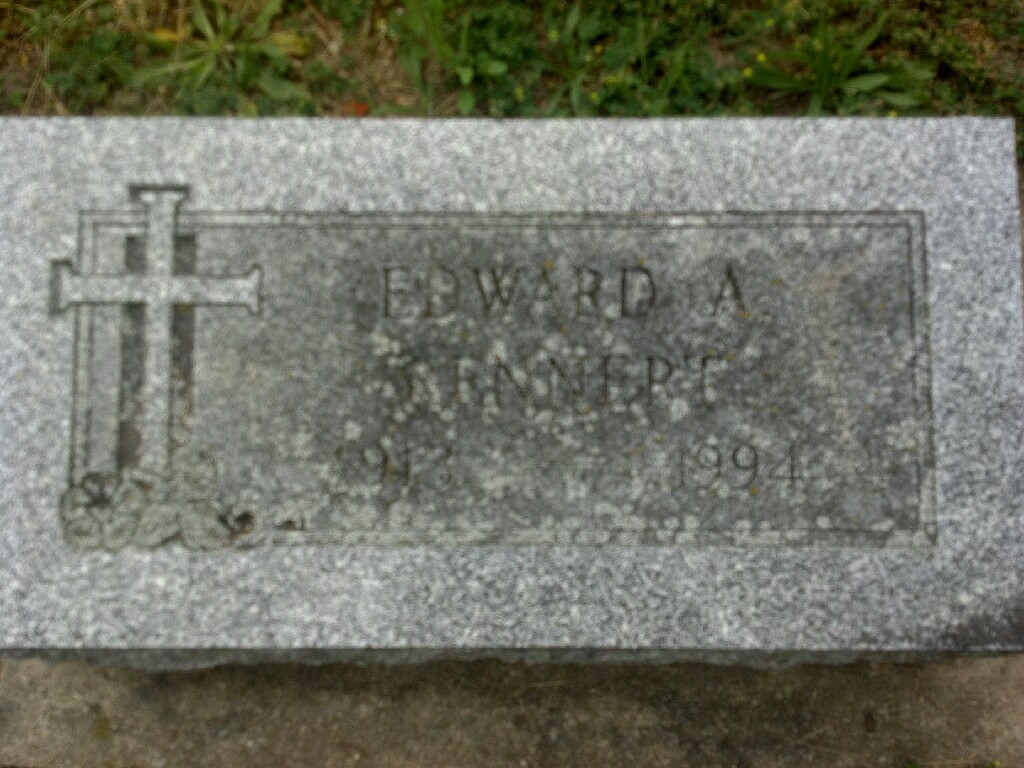flat: (22, 112, 1022, 659)
